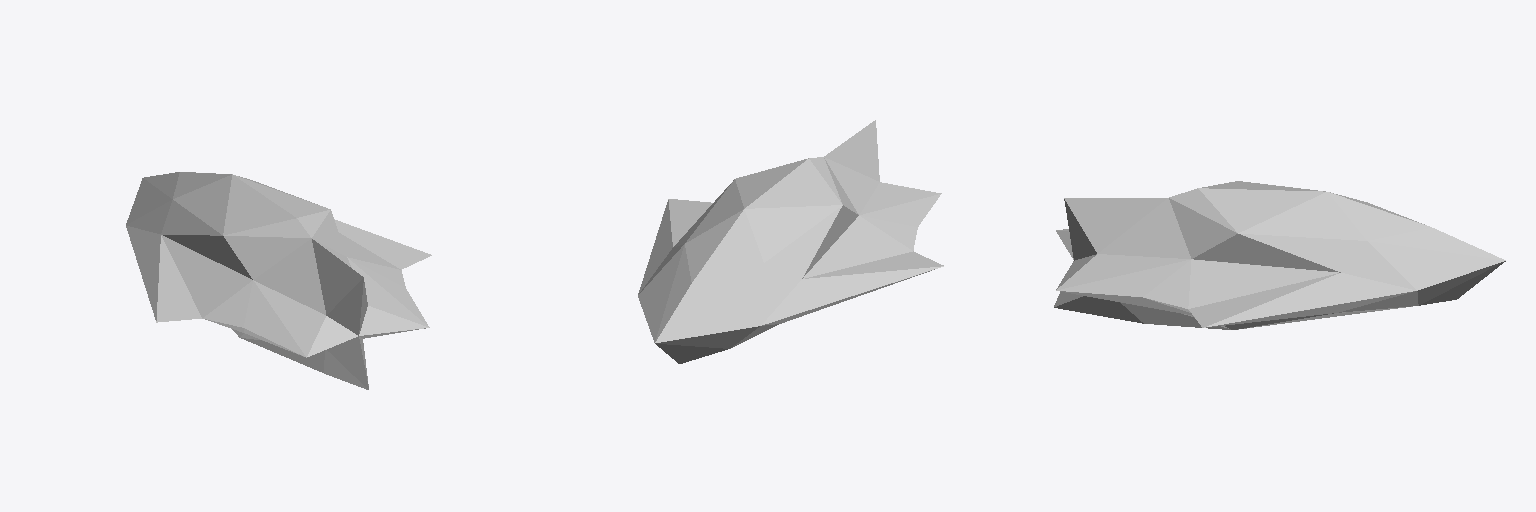
File: Ship1p.obj
3 views of the same model, side by side, from view 1: azimuth 30°, elevation 25°; view 2: azimuth 150°, elevation 25°; view 3: azimuth 270°, elevation 25° (orthographic).
Visible parts, largest first — view 1: Icosphere.001_Icosphere.002; view 2: Icosphere.001_Icosphere.002; view 3: Icosphere.001_Icosphere.002.
Part boxes in pixels (x1,y1,x2,y2): Icosphere.001_Icosphere.002: (126,172,431,389); Icosphere.001_Icosphere.002: (638,120,943,363); Icosphere.001_Icosphere.002: (1054,181,1505,329).
Bounding box in the file's own units: 3.9 × 1.83 × 5.54.